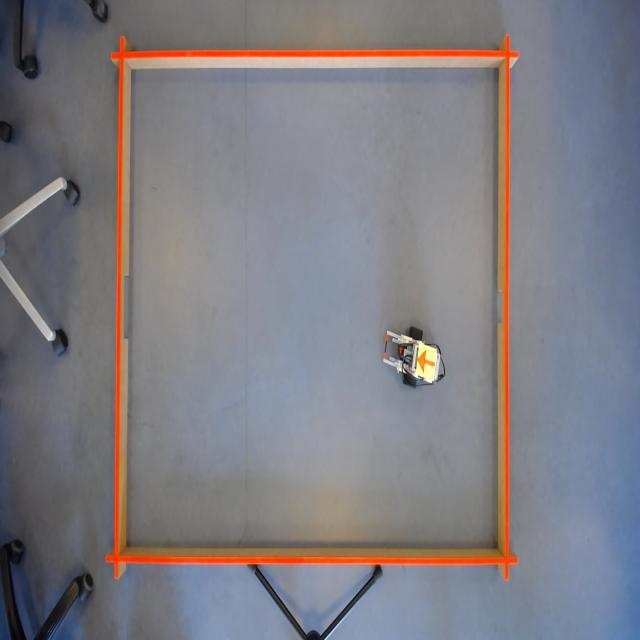robot: (417, 342, 437, 381)
